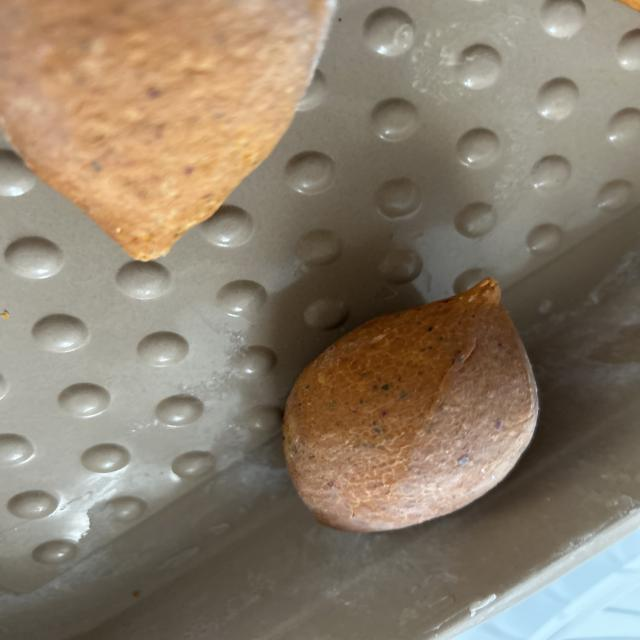kobi: (0, 2, 338, 263), (281, 276, 540, 533)
